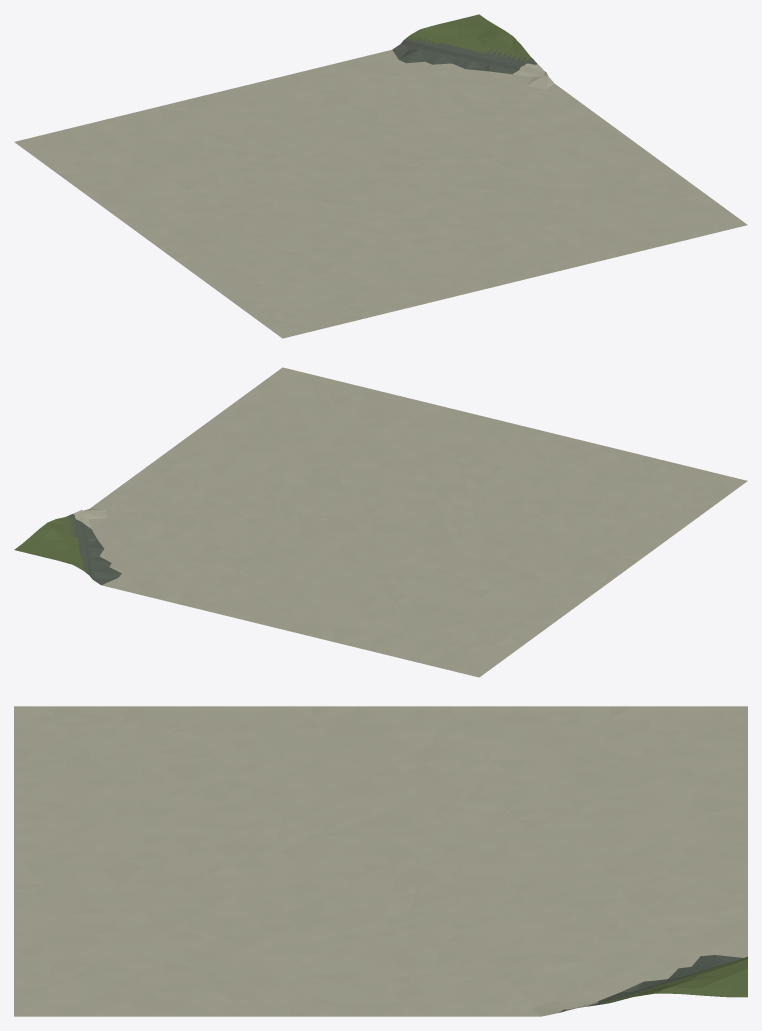
Rendered from Ground_-4_-3.glb.
3 renders of one model, top to bottom at view 1: azimuth 30°, elevation 25°; view 2: azimuth 150°, elevation 25°; view 3: azimuth 270°, elevation 25°, orthographic. The views are drawn at different scales.
Parts seen in each view (by area): view 1: Ground_-4_-3; view 2: Ground_-4_-3; view 3: Ground_-4_-3.
Part boxes in pixels (left/top/right/bottom): Ground_-4_-3: left=14, top=14, right=747, bottom=338; Ground_-4_-3: left=14, top=367, right=747, bottom=677; Ground_-4_-3: left=14, top=706, right=747, bottom=1016.
Size of the model in its own units: 768 by 26.67 by 768.
